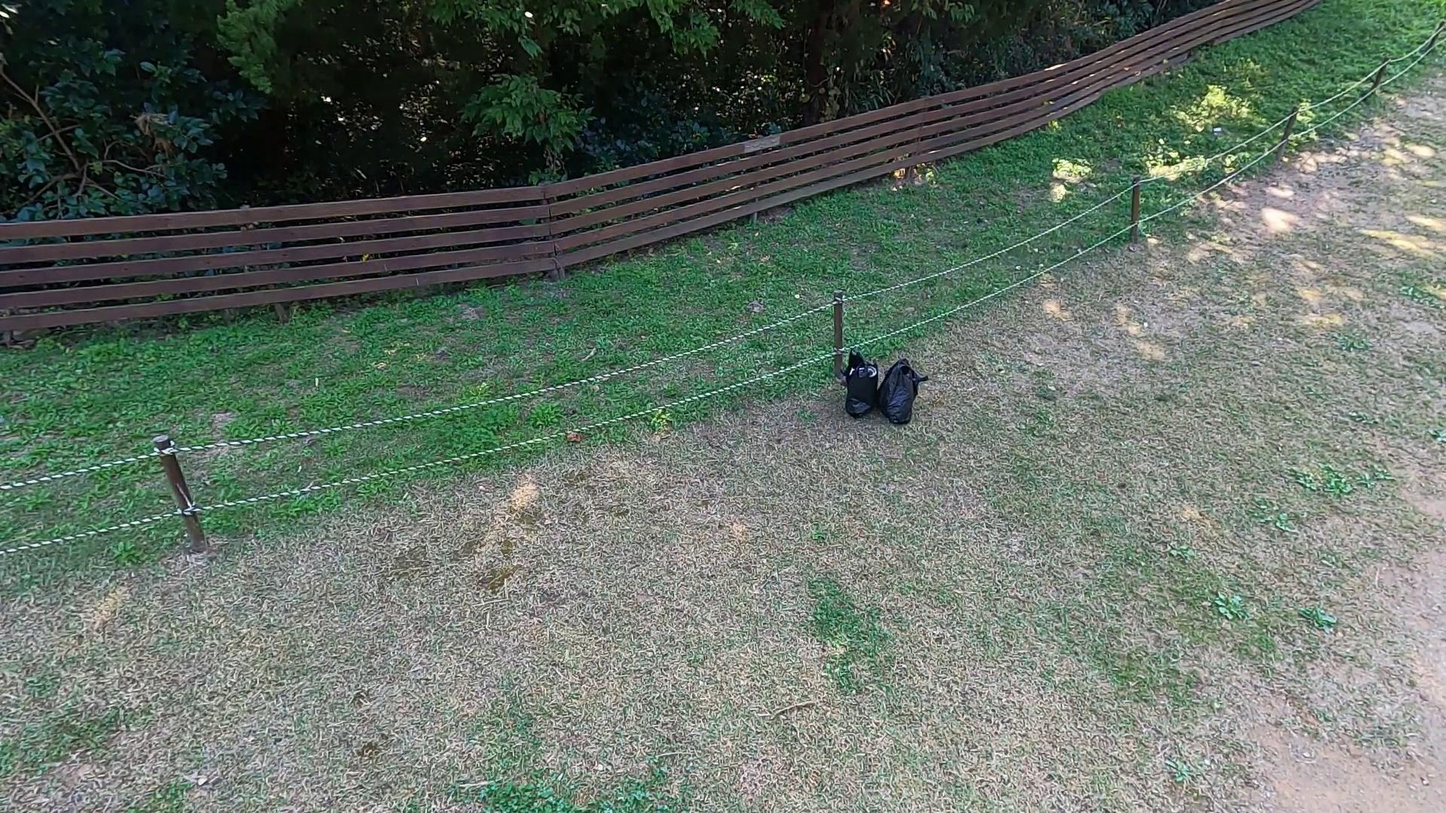trash: (874, 355, 929, 430), (838, 349, 880, 420)
